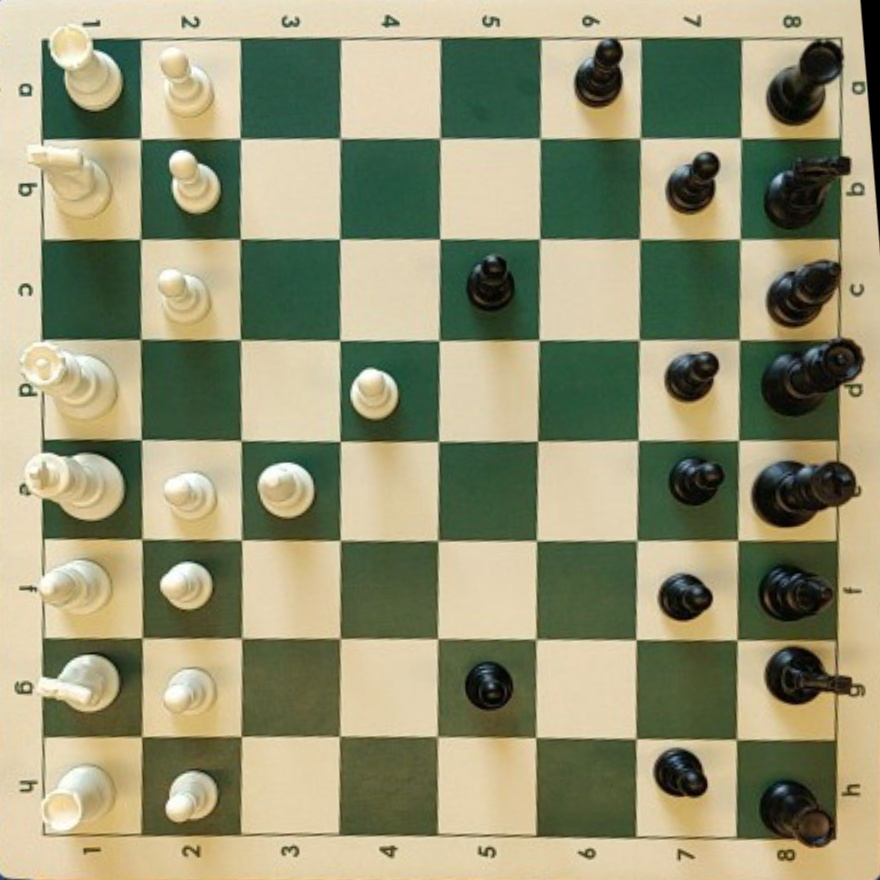black-bishop: (768, 260, 841, 326), (760, 564, 833, 621)
black-king: (753, 460, 858, 526)
black-knight: (765, 156, 849, 228), (766, 647, 865, 704)
black-pawn: (574, 37, 624, 105), (667, 152, 721, 212), (654, 749, 708, 798), (467, 255, 515, 310), (665, 352, 720, 400), (670, 456, 725, 504), (659, 573, 713, 620), (465, 661, 513, 709)
black-queen: (763, 339, 864, 415)
black-rook: (768, 39, 842, 123), (760, 779, 833, 847)
white-bishop: (37, 559, 111, 613), (257, 462, 315, 519)
white-king: (21, 451, 124, 521)
white-knight: (22, 142, 111, 217), (62, 662, 118, 718)
white-pawn: (160, 49, 213, 117), (168, 149, 221, 214), (164, 770, 218, 823), (158, 269, 210, 324), (159, 560, 213, 610), (162, 470, 216, 520), (350, 368, 399, 419), (163, 667, 214, 714)
white-queen: (19, 345, 117, 419)
white-rook: (49, 27, 123, 112), (40, 764, 114, 834)
